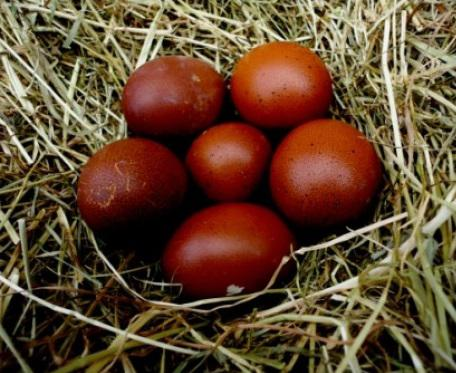egg: (164, 205, 294, 294), (270, 120, 386, 218), (74, 137, 186, 227), (229, 39, 331, 128), (120, 57, 223, 135), (184, 121, 272, 208)
